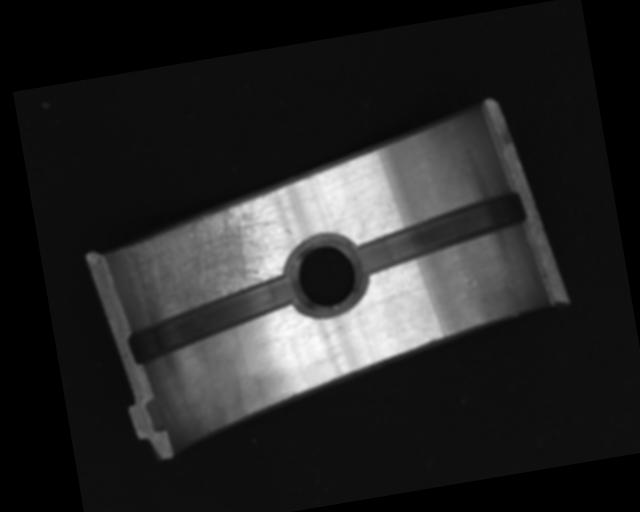gap: (119, 271, 302, 368), (355, 189, 533, 274)
hole: (280, 237, 368, 318)
scratch: (107, 196, 285, 329)
